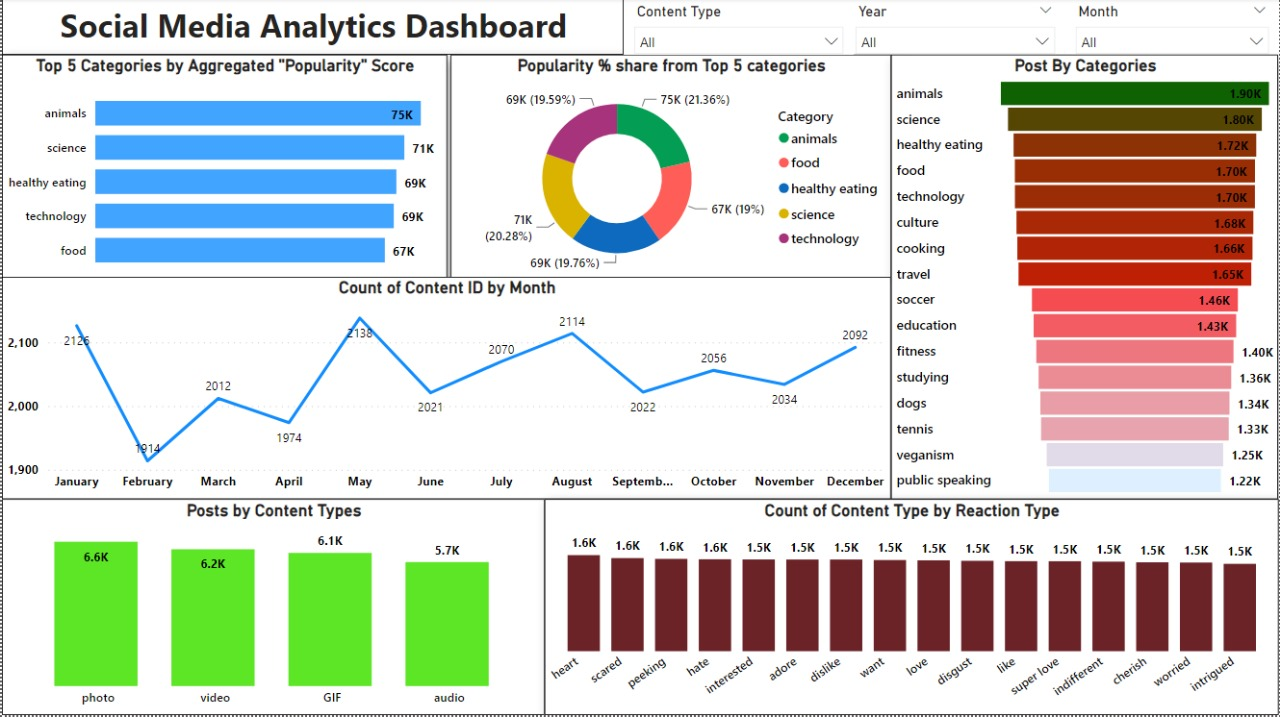

The dashboard page shown, as its layout file describes it:
{"tool":"powerbi","page":{"name":"Page 1","canvas":[1280,720],"ordinal":0},"visuals":[{"type":"barChart","title":"Top 5 Categories by Aggregated \"Popularity\" Score","fields":{"Category":["Cleaned Data.Category"],"Y":["Sum(Cleaned Data.Score)"]},"box":[0,56.7,446.2,227.9],"z":0},{"type":"donutChart","title":"Popularity % share from Top 5 categories","fields":{"Series":["Cleaned Data.Category"],"Y":["Sum(Cleaned Data.Score)"]},"box":[449.8,56.2,441.3,228.6],"z":1000},{"type":"funnel","title":"Post By Categories","fields":{"Category":["Cleaned Data.Category"],"Y":["CountNonNull(Cleaned Data.Content ID)"]},"box":[891.3,56.7,388.3,446.2],"z":2000},{"type":"columnChart","title":"Posts by Content Types","fields":{"Category":["Cleaned Data.Content Type"],"Y":["CountNonNull(Cleaned Data.Content ID)"]},"box":[0,502.9,543.9,217.1],"z":3000},{"type":"lineChart","fields":{"Category":["Cleaned Data.Datetime.Variation.Date Hierarchy.Month"],"Y":["CountNonNull(Cleaned Data.Content ID)"]},"box":[0,279.8,891.3,223.1],"z":4000},{"type":"columnChart","title":"Count of Content Type by Reaction Type","fields":{"Category":["Cleaned Data.Reaction Type"],"Y":["CountNonNull(Cleaned Data.Content Type)"]},"box":[543.9,502.9,735.7,217.1],"z":5000},{"type":"textbox","box":[0,0,623.5,56.7],"z":6000},{"type":"slicer","fields":{"Values":["Cleaned Data.Content Type"]},"box":[623.5,0,230.4,56.7],"z":7000},{"type":"slicer","fields":{"Values":["Cleaned Data.Datetime.Variation.Date Hierarchy.Month"]},"box":[1065.9,0,213.9,56.2],"z":8000},{"type":"slicer","fields":{"Values":["Cleaned Data.Datetime.Variation.Date Hierarchy.Year"]},"box":[845.9,0,220,56.2],"z":9000}]}

Visuals, with their boxes in screenshot pixels (x1, y1, x2, y2), scaled from the page's 1280x720 canvas onto the 1280x717 screenshot:
"Top 5 Categories by Aggregated "Popularity" Score" barChart: x1=0 y1=56 x2=446 y2=283
"Popularity % share from Top 5 categories" donutChart: x1=450 y1=56 x2=891 y2=284
"Post By Categories" funnel: x1=891 y1=56 x2=1279 y2=501
"Posts by Content Types" columnChart: x1=0 y1=501 x2=544 y2=716
lineChart - Cleaned Data.Datetime.Variation.Date Hierarchy.Month x CountNonNull(Cleaned Data.Content ID): x1=0 y1=279 x2=891 y2=501
"Count of Content Type by Reaction Type" columnChart: x1=544 y1=501 x2=1279 y2=716
textbox: x1=0 y1=0 x2=624 y2=56
slicer - Cleaned Data.Content Type: x1=624 y1=0 x2=854 y2=56
slicer - Cleaned Data.Datetime.Variation.Date Hierarchy.Month: x1=1066 y1=0 x2=1279 y2=56
slicer - Cleaned Data.Datetime.Variation.Date Hierarchy.Year: x1=846 y1=0 x2=1066 y2=56
